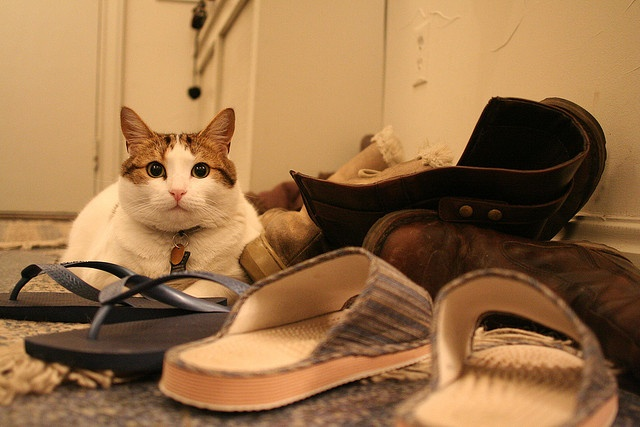cat: (70, 98, 336, 388)
